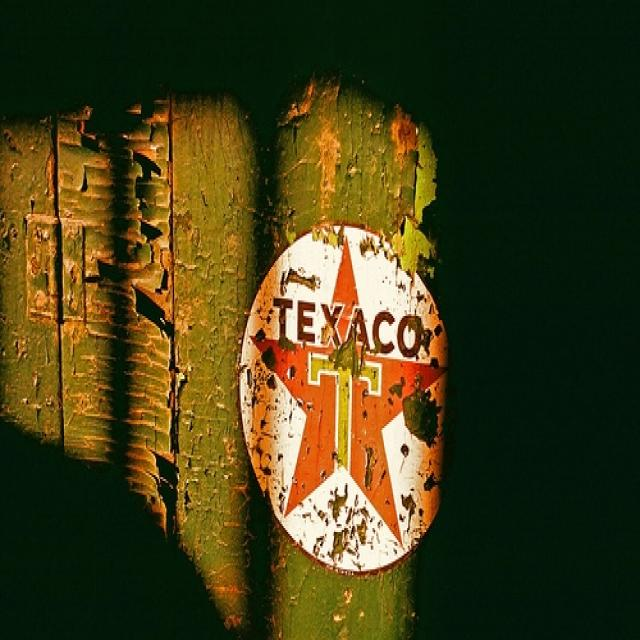texaco: (234, 223, 449, 578)
